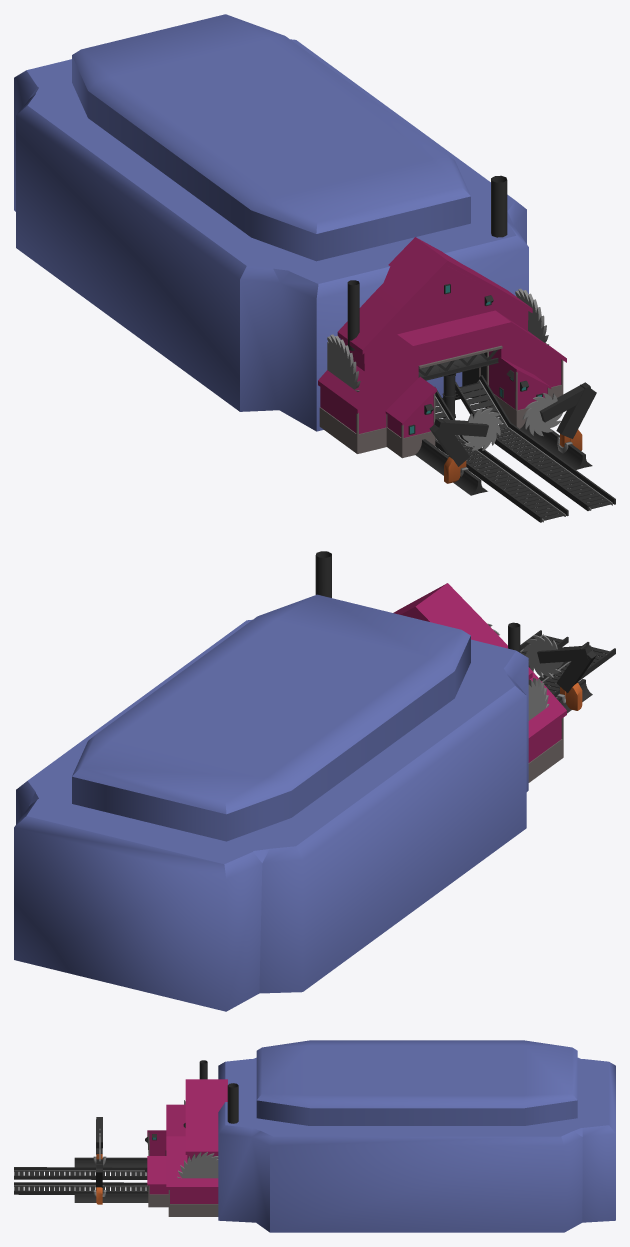
Rendered from Fabrica Sierras.fbx.
3 views of the same model, one above another, from view 1: azimuth 30°, elevation 25°; view 2: azimuth 150°, elevation 25°; view 3: azimuth 270°, elevation 25° (orthographic). The views are drawn at different scales.
Parts seen in each view (by area): view 1: Cubo_2, Objeto_Poligonal_1_2, Objeto_Poligonal_2, Objeto_Poligonal_2_2, Extrusión_1_5, Extrusión_4, Recorrido_4, Cubo_3_2, Recorrido_5, Cubo_4_4, Cilindro, Recorrido_1_2 (+5 smaller); view 2: Cubo_2, Objeto_Poligonal_2, Objeto_Poligonal_1_2, Extrusión_4, Recorrido_4, Cilindro, Cubo_4_4, Cubo_3_2, Extrusión_1_5; view 3: Cubo_2, Objeto_Poligonal_2, Objeto_Poligonal_1_2, Objeto_Poligonal_2_2, Extrusión_1_5, Extrusión_1_1, Recorrido_4, Recorrido_1, Extrusión_2, Recorrido, Recorrido_1_1, Cilindro (+2 smaller).
Part boxes in pixels (left/top/right/bottom): Cubo_2: left=14, top=14, right=528, bottom=431; Objeto_Poligonal_1_2: left=318, top=310, right=566, bottom=433; Objeto_Poligonal_2: left=337, top=237, right=532, bottom=371; Objeto_Poligonal_2_2: left=385, top=357, right=551, bottom=437; Extrusión_1_5: left=327, top=288, right=548, bottom=391; Extrusión_4: left=462, top=393, right=562, bottom=450; Recorrido_4: left=319, top=359, right=563, bottom=453; Cubo_3_2: left=429, top=384, right=596, bottom=466; Recorrido_5: left=386, top=371, right=549, bottom=458; Cubo_4_4: left=434, top=382, right=591, bottom=436; Cilindro: left=491, top=175, right=507, bottom=237; Recorrido_1_2: left=474, top=375, right=615, bottom=504; Cubo_2: left=14, top=594, right=528, bottom=1011; Objeto_Poligonal_2: left=393, top=583, right=532, bottom=679; Objeto_Poligonal_1_2: left=528, top=667, right=566, bottom=762; Extrusión_4: left=487, top=623, right=563, bottom=677; Recorrido_4: left=528, top=717, right=563, bottom=782; Cilindro: left=315, top=551, right=331, bottom=597; Cubo_4_4: left=537, top=645, right=591, bottom=663; Cubo_3_2: left=556, top=645, right=596, bottom=692; Extrusión_1_5: left=528, top=678, right=549, bottom=720; Cubo_2: left=218, top=1040, right=615, bottom=1232; Objeto_Poligonal_2: left=185, top=1079, right=227, bottom=1160; Objeto_Poligonal_1_2: left=166, top=1104, right=218, bottom=1203; Objeto_Poligonal_2_2: left=147, top=1130, right=168, bottom=1194; Extrusión_1_5: left=177, top=1100, right=218, bottom=1178; Extrusión_1_1: left=74, top=1191, right=148, bottom=1202; Recorrido_4: left=168, top=1190, right=218, bottom=1216; Recorrido_1: left=14, top=1175, right=147, bottom=1179; Extrusión_2: left=74, top=1157, right=147, bottom=1167; Recorrido: left=14, top=1182, right=147, bottom=1185; Recorrido_1_1: left=14, top=1167, right=146, bottom=1170; Cilindro: left=227, top=1083, right=238, bottom=1123.
Size of the model in its own units: 402 by 279 by 1110.
